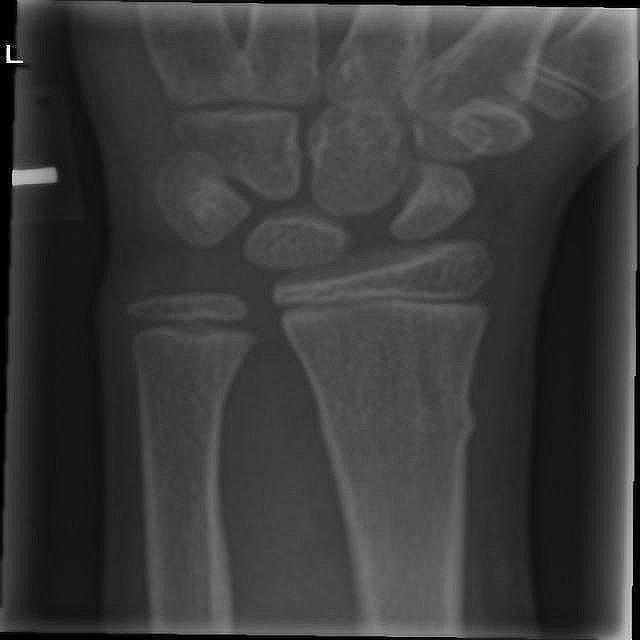bone: (314, 392, 479, 452)
